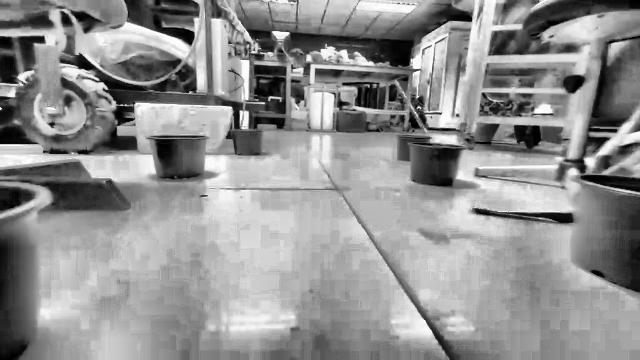pot: (0, 181, 51, 359), (575, 175, 639, 292), (146, 134, 208, 179), (409, 143, 464, 186), (232, 129, 262, 155)
